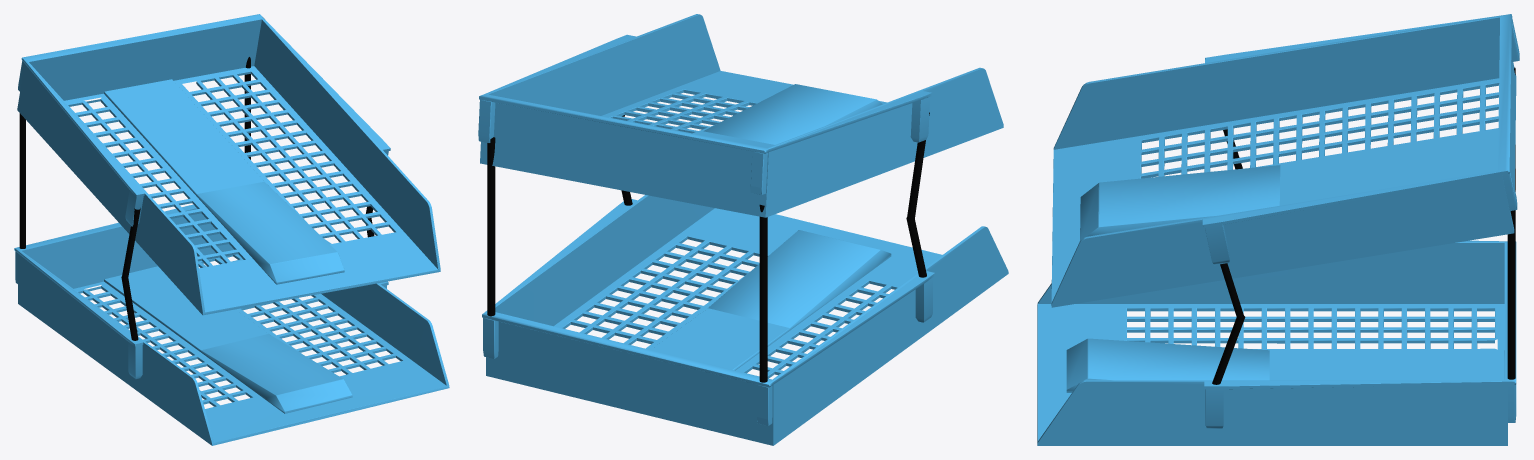
Rendered from porta_hojas 1.fbx.
3 renders of one model, left to right at view 1: azimuth 30°, elevation 25°; view 2: azimuth 150°, elevation 25°; view 3: azimuth 270°, elevation 25°, orthographic. The views are drawn at different scales.
Parts seen in each view (by area): view 1: Body, Body_3, Poles_2, Poles_3; view 2: Body_3, Body, Poles_2, Poles_3; view 3: Body, Body_3, Poles_2, Poles_3.
Part boxes in pixels (x1,y1,x2,y2): Body: (17,14,440,315); Body_3: (14,204,449,445); Poles_2: (19,57,373,278); Poles_3: (19,138,374,340); Body_3: (482,195,1008,445); Body: (478,14,1003,217); Poles_2: (487,112,929,314); Poles_3: (487,190,926,382); Body: (1051,14,1519,307); Body_3: (1037,240,1516,445); Poles_2: (1220,67,1515,320); Poles_3: (1212,177,1515,384).
Bounding box in the file's own units: 26.35 × 24.05 × 35.62.
